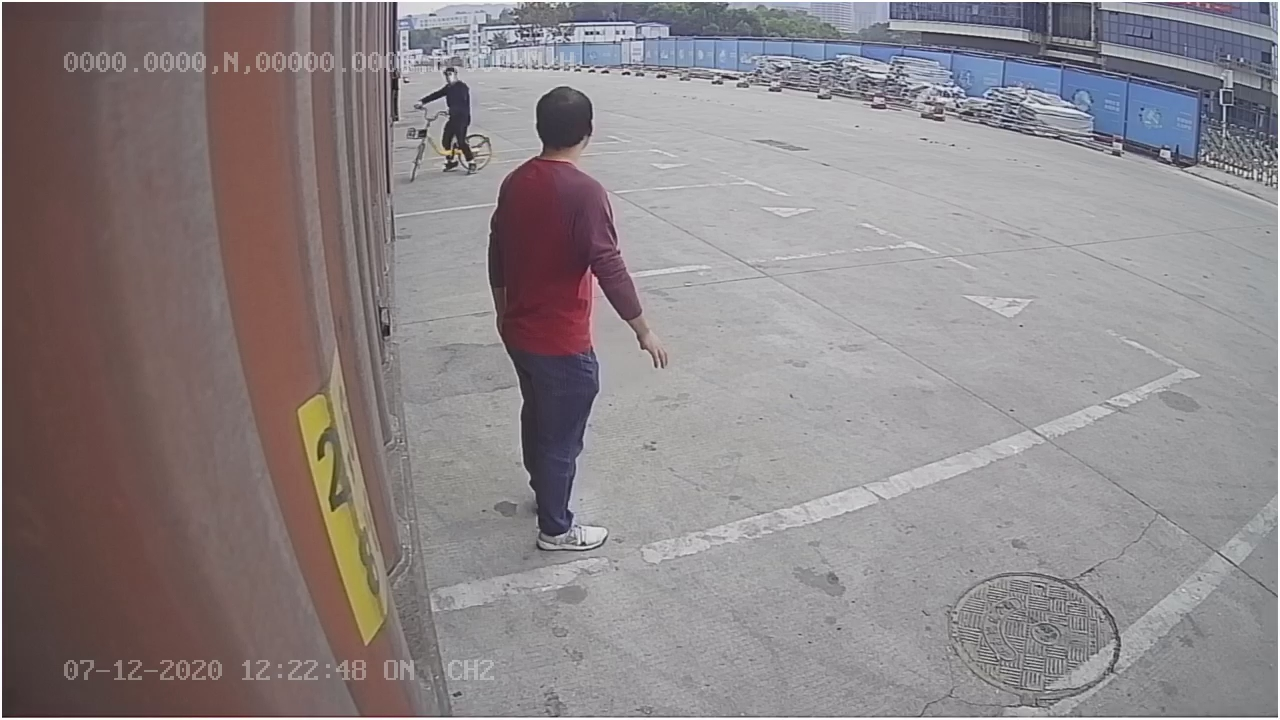person: (483, 78, 673, 558)
